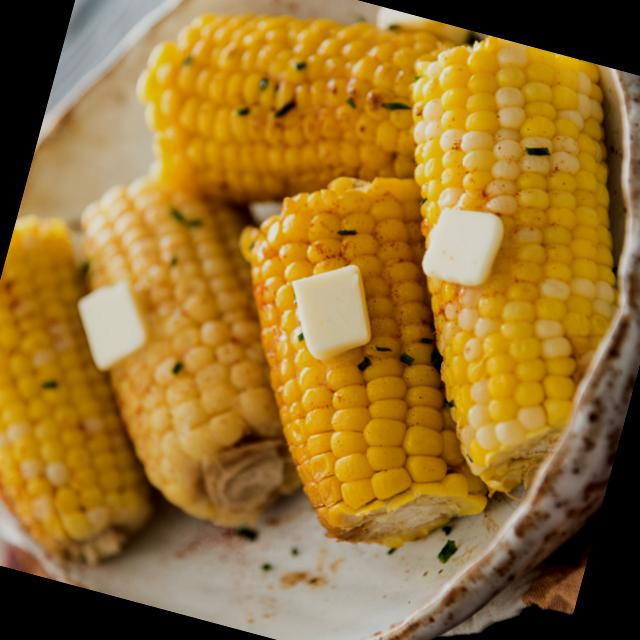corn: (175, 150, 570, 574), (319, 19, 640, 502), (16, 148, 363, 550), (108, 0, 448, 261), (0, 200, 220, 572)
